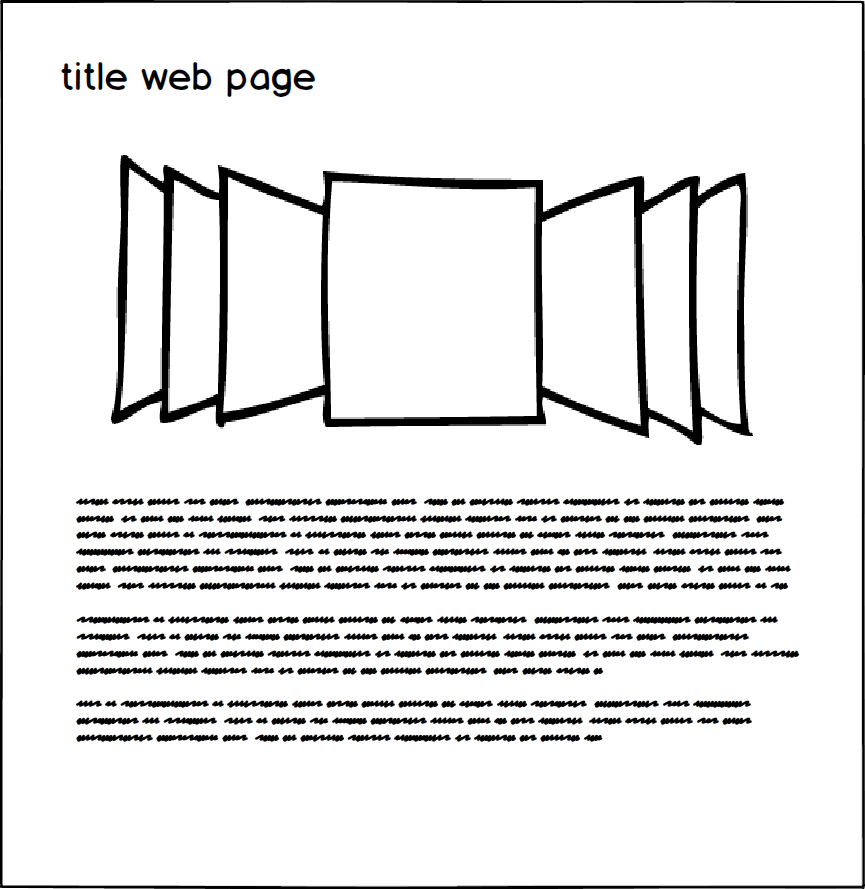h1: (48, 56, 330, 101)
p: (67, 492, 807, 748)
slideshow: (107, 148, 771, 452)
